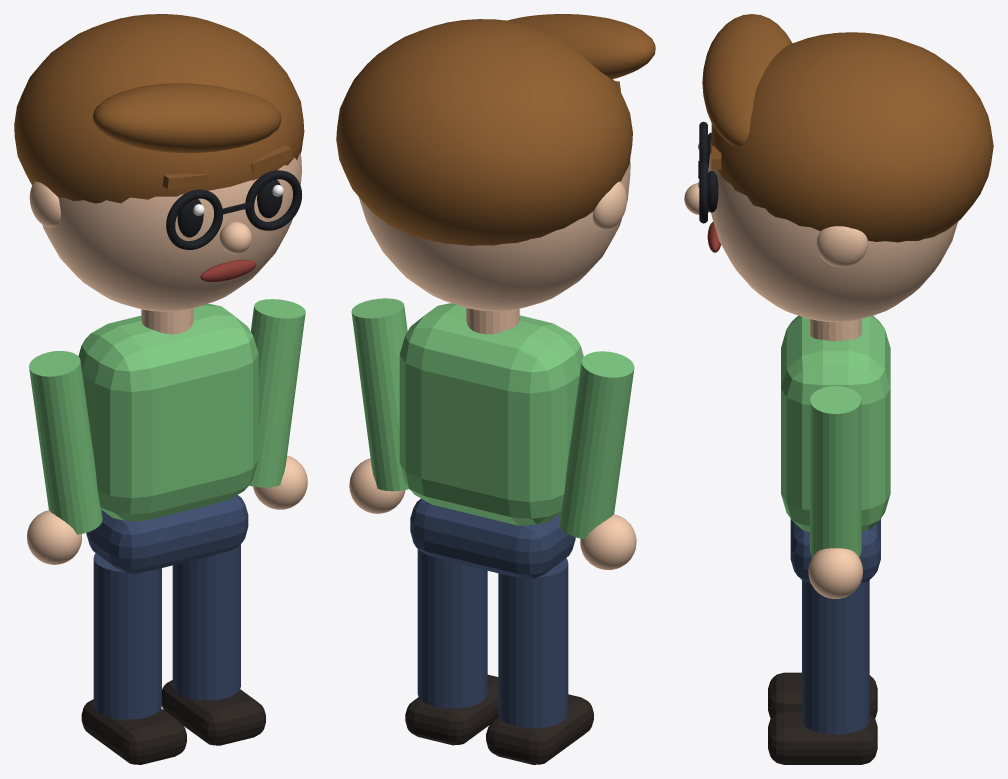
Rendered from programador.glb.
3 views of the same model, side by side, from view 1: azimuth 30°, elevation 25°; view 2: azimuth 150°, elevation 25°; view 3: azimuth 270°, elevation 25° (orthographic). The views are drawn at different scales.
Visible parts, largest first — view 1: Sphere.011, Cube.003, Sphere.002, Sphere.012, Cylinder, Cylinder.001, Cylinder.002, Cube.002, Cylinder.003, Cube, Cube.001, Sphere (+11 smaller); view 2: Sphere.011, Cube.003, Sphere.002, Cylinder, Cylinder.001, Cylinder.002, Cube.002, Cylinder.003, Sphere.012, Cube, Cube.001, Sphere (+3 smaller); view 3: Sphere.011, Sphere.002, Cube.003, Cylinder.001, Cylinder.003, Sphere.012, Cube.001, Sphere.001, Cube.002, Sphere.006, Cube, Cylinder.004 (+1 smaller).
Boxes of the visible parts, box(x1,y1,x2,y2) form: Sphere.011: box(14, 14, 304, 203); Cube.003: box(78, 304, 258, 521); Sphere.002: box(42, 153, 301, 311); Sphere.012: box(93, 83, 281, 153); Cylinder: box(93, 553, 161, 719); Cylinder.001: box(172, 544, 240, 700); Cylinder.002: box(29, 351, 102, 534); Cube.002: box(86, 495, 248, 573); Cylinder.003: box(249, 299, 305, 487); Cube: box(81, 699, 186, 764); Cube.001: box(162, 680, 265, 745); Sphere: box(27, 510, 81, 564); Sphere.011: box(336, 19, 632, 245); Cube.003: box(399, 303, 583, 525); Sphere.002: box(358, 160, 630, 311); Cylinder: box(498, 558, 568, 728); Cylinder.001: box(417, 549, 487, 708); Cylinder.002: box(559, 351, 634, 539); Cube.002: box(410, 498, 575, 578); Cylinder.003: box(351, 298, 408, 491); Sphere.012: box(507, 14, 655, 79); Cube: box(486, 694, 593, 764); Cube.001: box(405, 674, 499, 745); Sphere: box(580, 514, 636, 569); Sphere.011: box(710, 32, 993, 242); Sphere.002: box(708, 151, 957, 322); Cube.003: box(781, 315, 890, 531); Cylinder.001: box(802, 580, 869, 734); Cylinder.003: box(810, 386, 861, 556); Sphere.012: box(702, 14, 792, 146); Cube.001: box(768, 710, 877, 764); Sphere.001: box(808, 548, 862, 598); Cube.002: box(790, 519, 880, 582); Sphere.006: box(816, 226, 867, 267); Cube: box(768, 672, 877, 718); Cylinder.004: box(810, 319, 861, 341).
Bounding box in the file's own units: 0.97 × 2.35 × 0.96.
